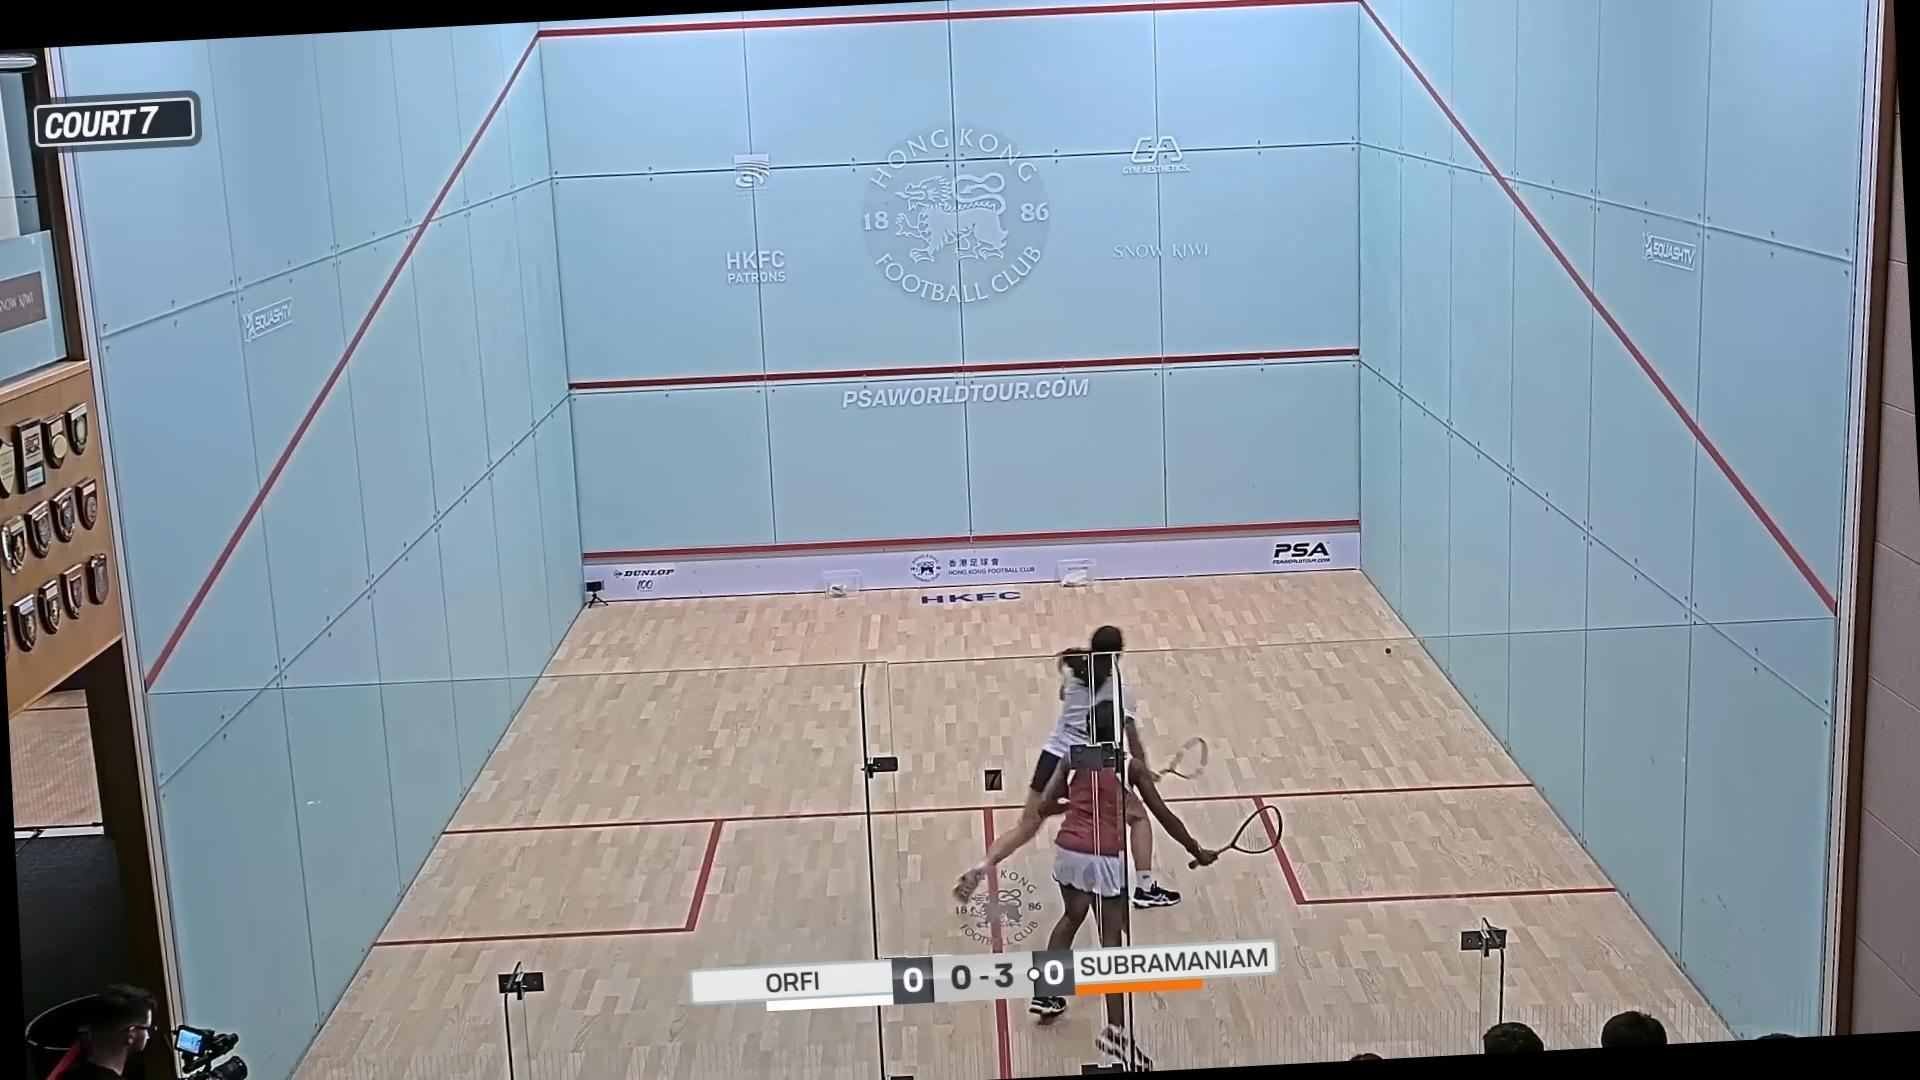Squash-Ball: (1378, 636, 1403, 666)
